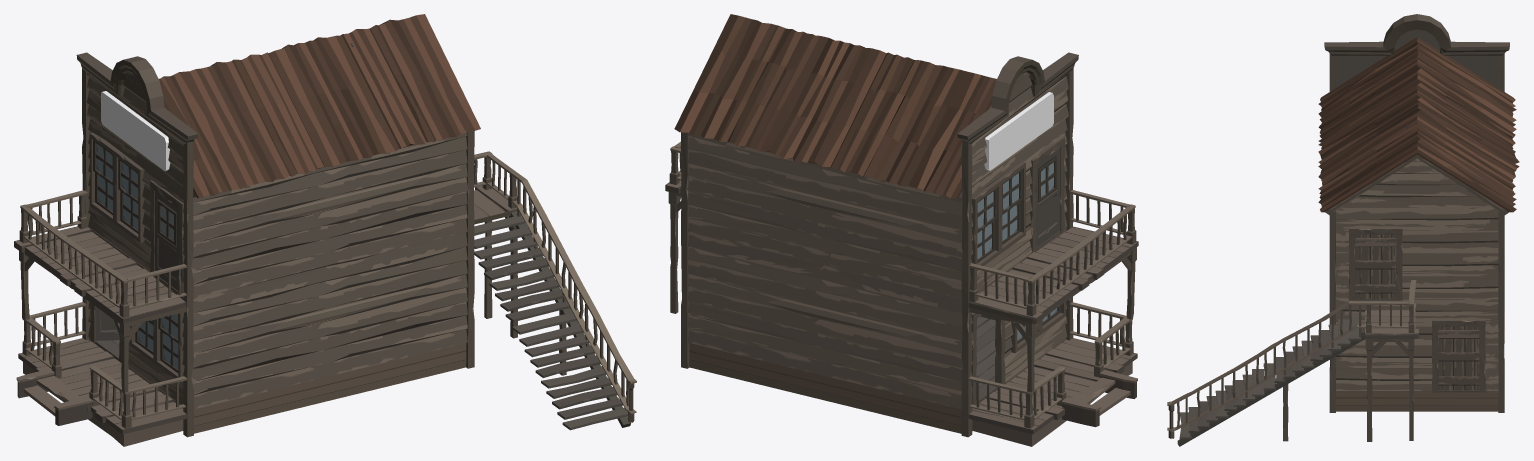
Rendered from Bank.glb.
The picture shows the model from 3 angles, left to right: view 1: azimuth 30°, elevation 25°; view 2: azimuth 150°, elevation 25°; view 3: azimuth 270°, elevation 25°; orthographic projection. The views are drawn at different scales.
Visible parts, largest first — view 1: Bank, SM_Bld_Single_Roof_01, SM_Bld_Stairs_02__1_, SM_Bld_Single_Balcony_01, SM_Bld_Single_Deck_01, SM_Bld_Single_Front_01, SM_Bld_Single_Facade_01, SM_Bld_Single_Front_02, SM_Bld_Sign_17, SM_Bld_DeckSteps_01__6_, SM_Building_Single_FrontDoor_01, SM_Building_Single_Front_Window_01 (+2 smaller); view 2: Bank, SM_Bld_Single_Roof_01, SM_Bld_Single_Balcony_01, SM_Bld_Single_Deck_01, SM_Bld_Single_Front_01, SM_Bld_Single_Facade_01, SM_Bld_Single_Front_02, SM_Bld_Sign_17, SM_Bld_DeckSteps_01__6_, SM_Building_Single_FrontDoor_01, SM_Bld_Stairs_02__1_, SM_Building_Single_Front_Window_01; view 3: SM_Bld_Single_Roof_01, Bank, SM_Bld_Stairs_02__1_, SM_Bld_Single_Facade_01, SM_Bld_Double_BackDoor_03, SM_Bld_Double_BackDoor_04.
Part boxes in pixels (x1,y1,x2,y2): Bank: (82,83,474,437); SM_Bld_Single_Roof_01: (159,14,480,198); SM_Bld_Stairs_02__1_: (474,151,636,430); SM_Bld_Single_Balcony_01: (14,190,186,392); SM_Bld_Single_Deck_01: (18,302,186,446); SM_Bld_Single_Front_01: (88,118,184,296); SM_Bld_Single_Facade_01: (76,52,198,186); SM_Bld_Single_Front_02: (88,302,184,404); SM_Bld_Sign_17: (101,91,170,171); SM_Bld_DeckSteps_01__6_: (16,369,92,425); SM_Building_Single_FrontDoor_01: (154,191,179,290); SM_Building_Single_Front_Window_01: (96,144,138,230); Bank: (681,82,1073,437); SM_Bld_Single_Roof_01: (674,14,996,198); SM_Bld_Single_Balcony_01: (968,190,1138,392); SM_Bld_Single_Deck_01: (968,302,1137,446); SM_Bld_Single_Front_01: (970,119,1067,291); SM_Bld_Single_Facade_01: (957,52,1078,186); SM_Bld_Single_Front_02: (970,301,1067,405); SM_Bld_Sign_17: (984,92,1053,170); SM_Bld_DeckSteps_01__6_: (1061,370,1137,427); SM_Building_Single_FrontDoor_01: (1035,148,1060,247); SM_Bld_Stairs_02__1_: (665,141,681,313); SM_Building_Single_Front_Window_01: (977,173,1018,259); SM_Bld_Single_Roof_01: (1318,37,1519,215); Bank: (1329,67,1504,412); SM_Bld_Stairs_02__1_: (1167,280,1418,446); SM_Bld_Single_Facade_01: (1324,14,1509,87); SM_Bld_Double_BackDoor_03: (1438,326,1479,390); SM_Bld_Double_BackDoor_04: (1355,234,1396,298).
Bounding box in the file's own units: 12.94 × 9.42 × 10.45.
Materials: 5 (3 with a texture image).
